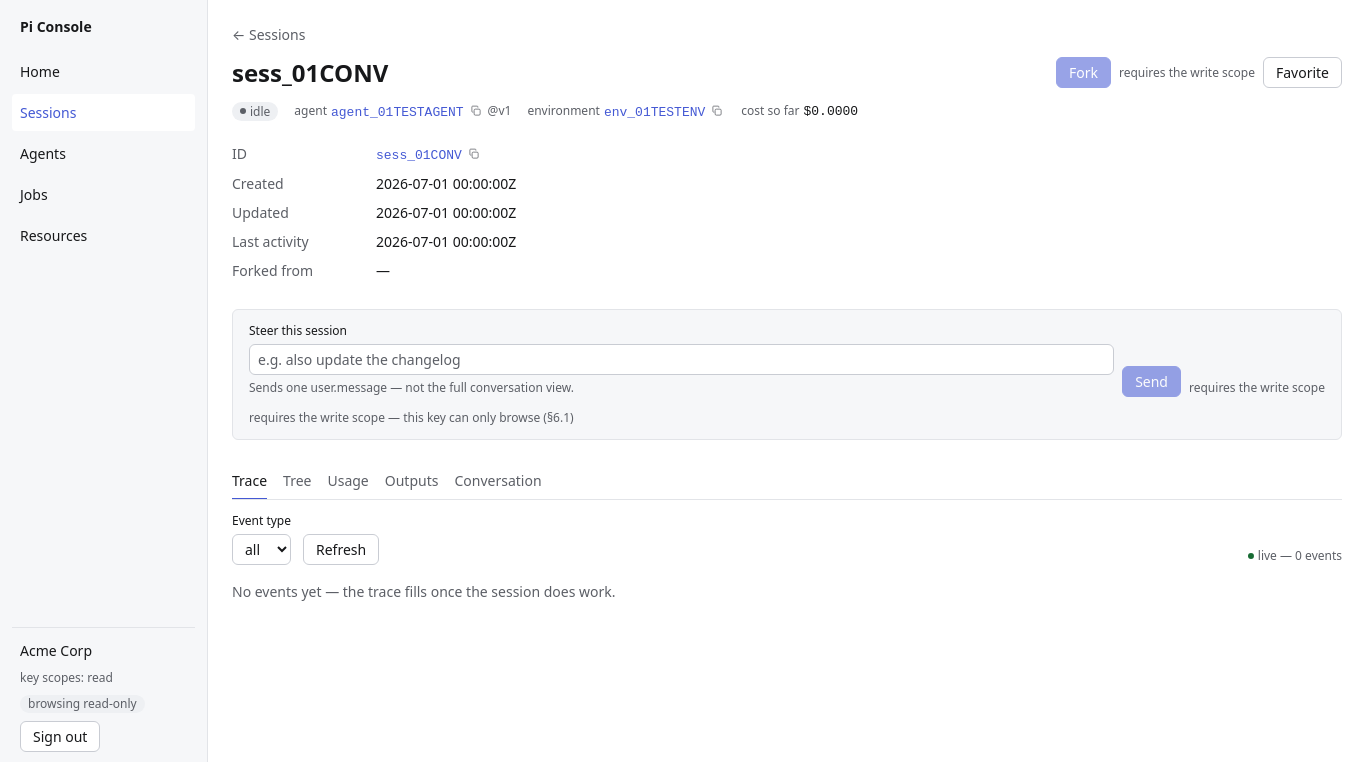
Test: empty and edge states › no messages → the teaching empty state with the CLI path (DP-5)
Expected: the element named "Session detail" is shown, [232,464,1342,500]
Click the tab "Conversation": (498, 482) [454,464,542,500]
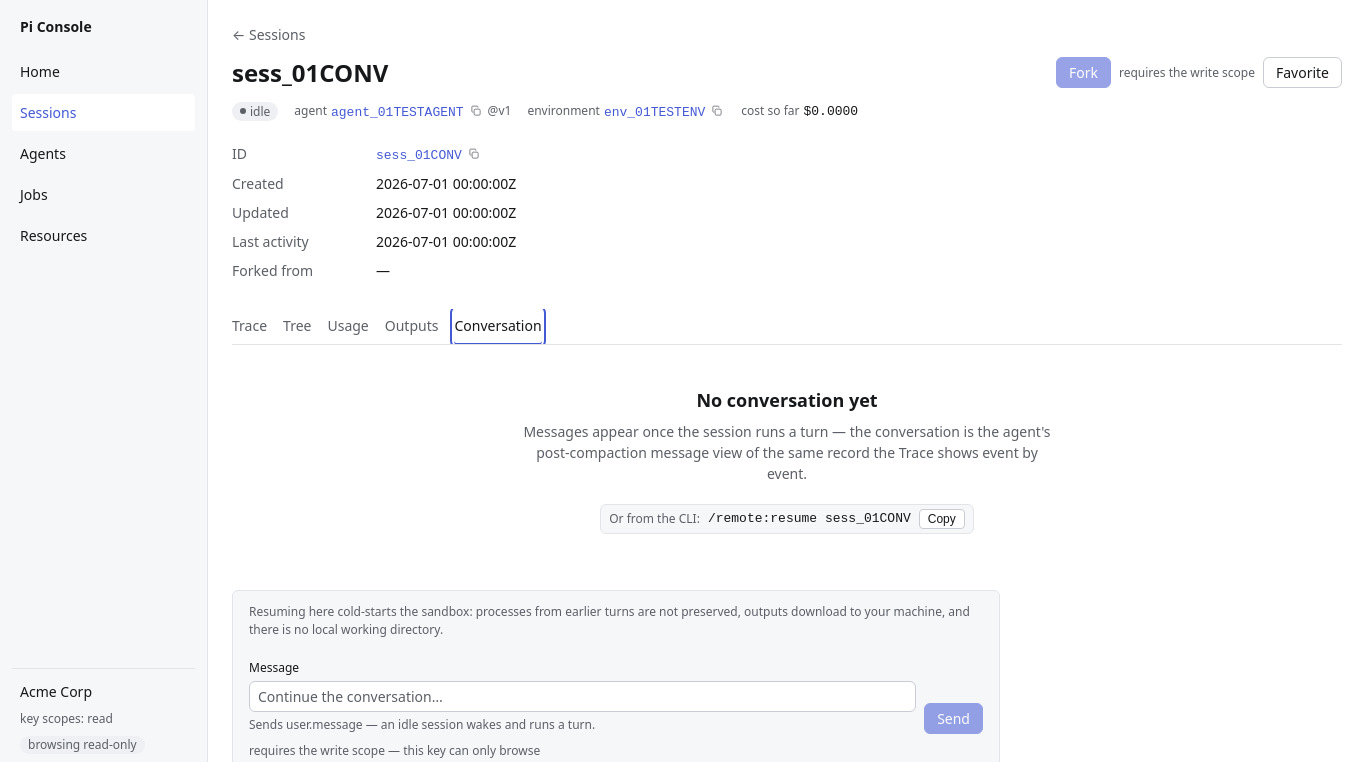
Expected: the heading "No conversation yet" is shown, [696,389,878,413]
